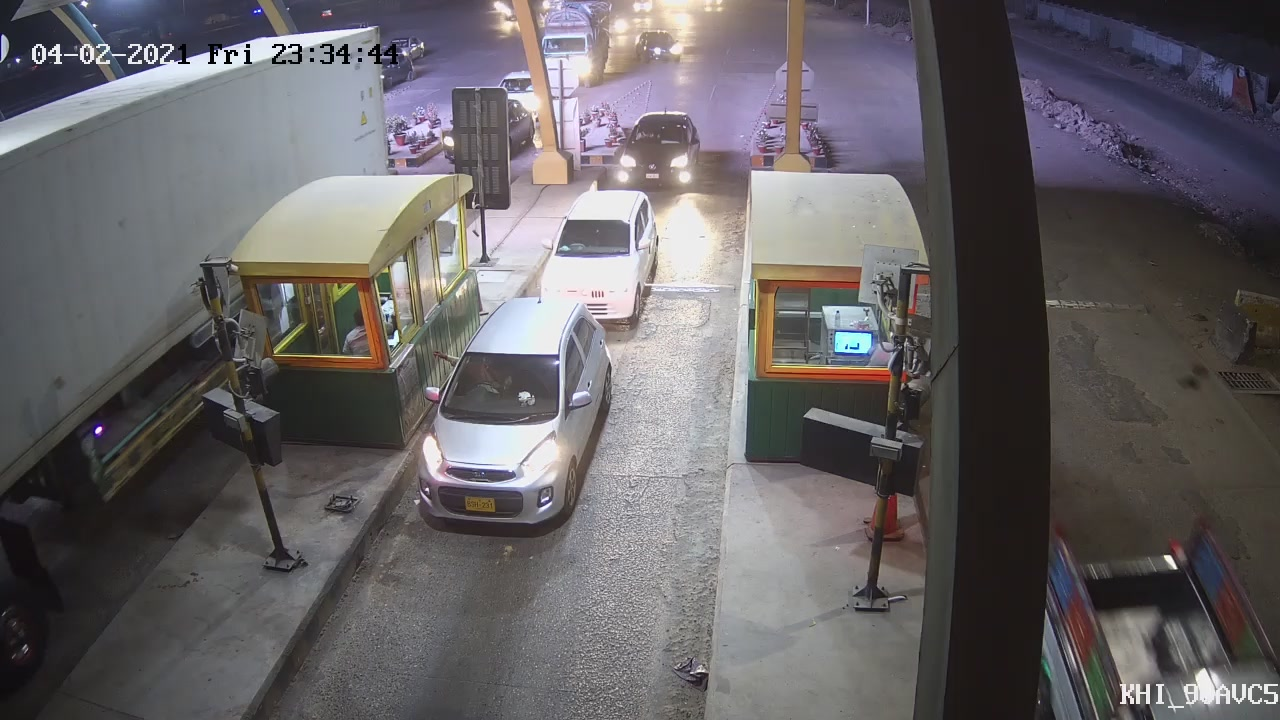F1: (408, 294, 614, 534)
